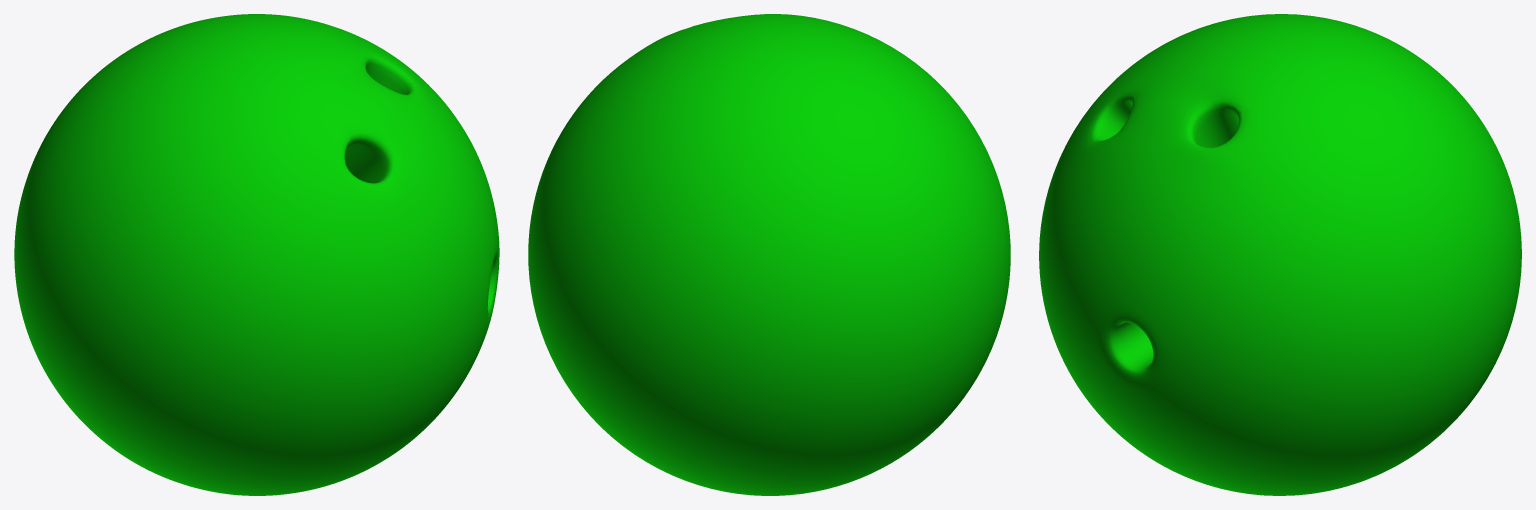
File: BowlingBall.dae
3 renders of one model, left to right at view 1: azimuth 30°, elevation 25°; view 2: azimuth 150°, elevation 25°; view 3: azimuth 270°, elevation 25°, orthographic.
Parts seen in each view (by area): view 1: ball; view 2: ball; view 3: ball.
Part boxes in pixels (left/top/right/bottom): ball: left=14, top=14, right=499, bottom=495; ball: left=528, top=14, right=1010, bottom=495; ball: left=1039, top=14, right=1521, bottom=495.
Bounding box in the file's own units: 21.9 × 21.8 × 21.87.
